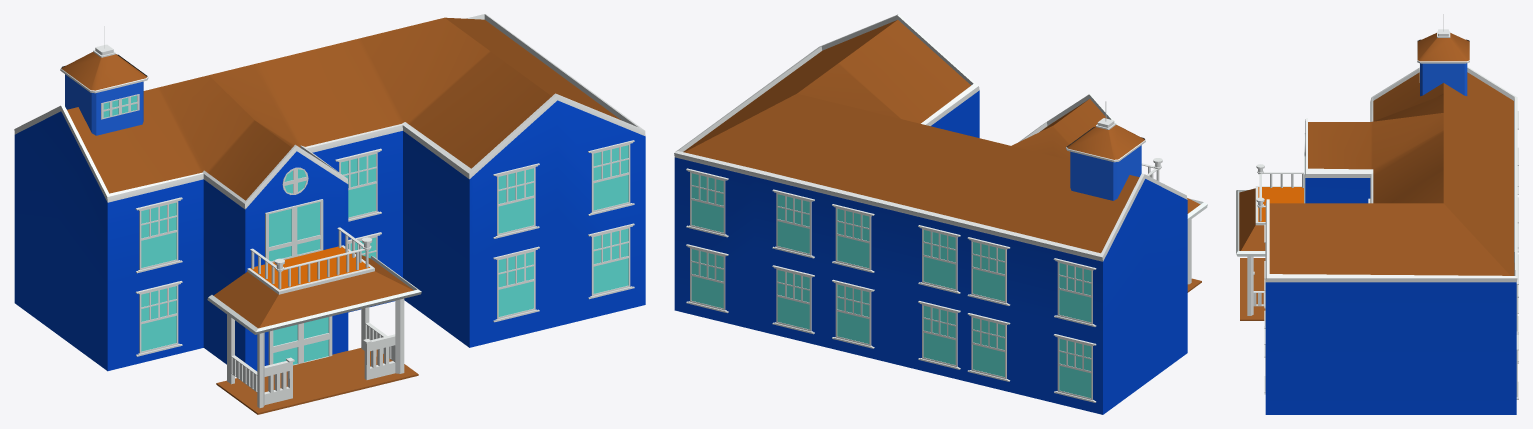
File: house5(shingle).fbx
The picture shows the model from 3 angles, left to right: view 1: azimuth 30°, elevation 25°; view 2: azimuth 150°, elevation 25°; view 3: azimuth 270°, elevation 25°; orthographic projection. The views are drawn at different scales.
Parts seen in each view (by area): view 1: Cube.001; view 2: Cube.001; view 3: Cube.001.
Part boxes in pixels (left/top/right/bottom): Cube.001: left=14, top=14, right=645, bottom=414; Cube.001: left=674, top=14, right=1207, bottom=414; Cube.001: left=1236, top=14, right=1518, bottom=414.
Bounding box in the file's own units: 586 × 357 × 387.
